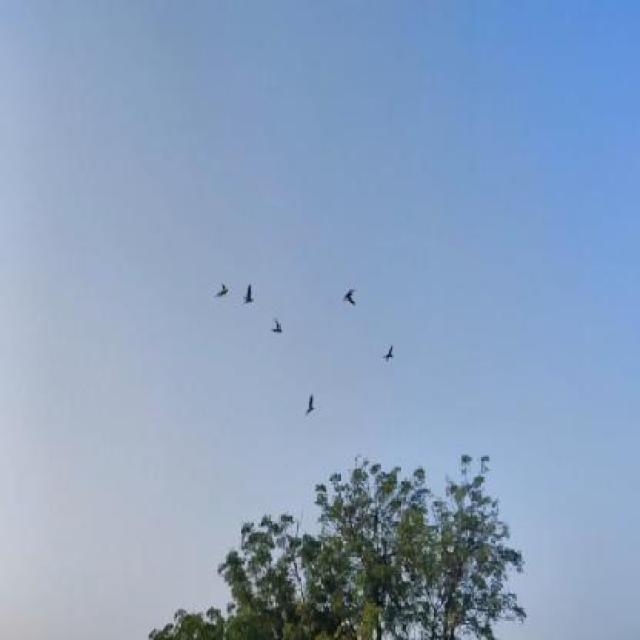bird: (302, 391, 322, 422), (342, 280, 358, 315), (213, 278, 230, 305), (380, 343, 397, 368), (240, 283, 255, 311), (270, 317, 284, 341)
